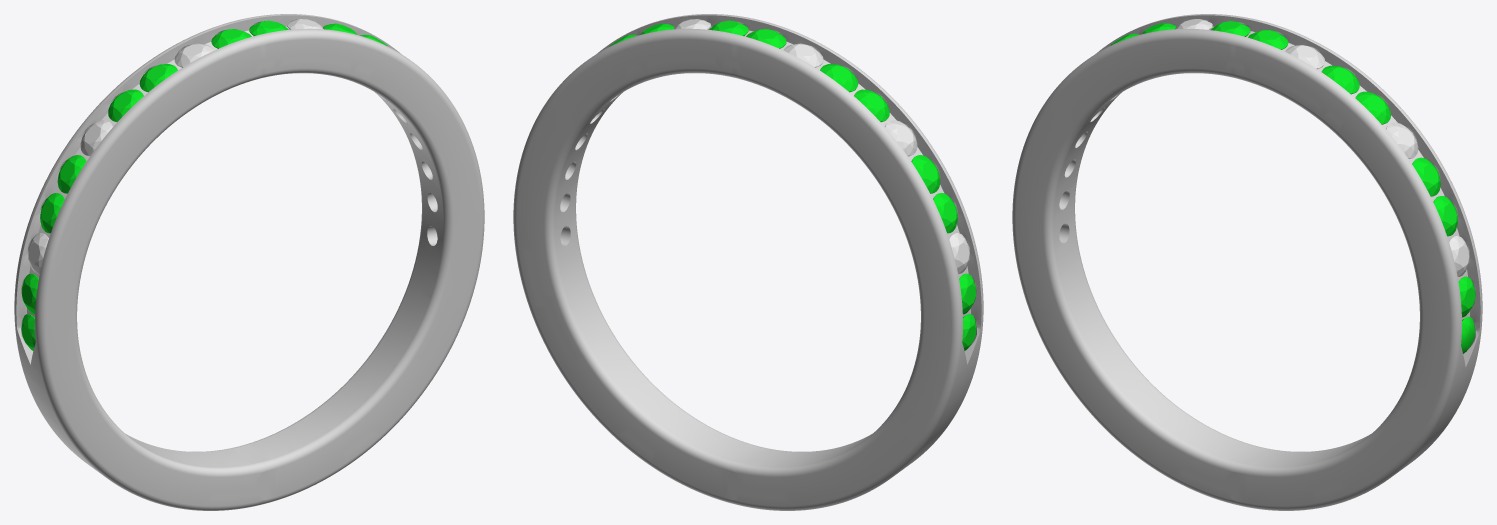
The model's file is Daniel Costa Emerald and Diamond.glb.
3 renders of one model, left to right at view 1: azimuth 30°, elevation 25°; view 2: azimuth 150°, elevation 25°; view 3: azimuth 330°, elevation 25°, orthographic.
Visible parts, largest first — view 1: v2 PT for 3d model, v2 dia for 3d model.004, v2 emerald for 3d model.010, v2 emerald for 3d model.009, v2 emerald for 3d model.011, v2 emerald for 3d model.008, v2 dia for 3d model.005, v2 dia for 3d model.003; view 2: v2 PT for 3d model, v2 dia for 3d model.004, v2 emerald for 3d model.010, v2 emerald for 3d model.009, v2 emerald for 3d model.011, v2 emerald for 3d model.008, v2 dia for 3d model.005, v2 dia for 3d model.003; view 3: v2 PT for 3d model, v2 dia for 3d model.001, v2 emerald for 3d model.003, v2 emerald for 3d model.004, v2 emerald for 3d model.002, v2 emerald for 3d model.005, v2 dia for 3d model, v2 dia for 3d model.002.
Part boxes in pixels (box(x1,y1,x2,y2)): v2 PT for 3d model: box(14, 14, 484, 510); v2 dia for 3d model.004: box(80, 120, 112, 156); v2 emerald for 3d model.010: box(57, 155, 86, 193); v2 emerald for 3d model.009: box(108, 89, 143, 121); v2 emerald for 3d model.011: box(40, 193, 64, 233); v2 emerald for 3d model.008: box(139, 64, 177, 92); v2 dia for 3d model.005: box(28, 233, 48, 273); v2 dia for 3d model.003: box(174, 43, 214, 67); v2 PT for 3d model: box(513, 14, 983, 510); v2 dia for 3d model.004: box(885, 120, 917, 156); v2 emerald for 3d model.010: box(911, 155, 940, 193); v2 emerald for 3d model.009: box(854, 89, 889, 121); v2 emerald for 3d model.011: box(933, 193, 957, 233); v2 emerald for 3d model.008: box(820, 64, 858, 92); v2 dia for 3d model.005: box(949, 233, 969, 273); v2 dia for 3d model.003: box(783, 43, 823, 67); v2 PT for 3d model: box(1012, 14, 1482, 510); v2 dia for 3d model.001: box(1386, 122, 1418, 158); v2 emerald for 3d model.003: box(1412, 157, 1440, 196); v2 emerald for 3d model.004: box(1355, 91, 1390, 124); v2 emerald for 3d model.002: box(1433, 196, 1457, 236); v2 emerald for 3d model.005: box(1321, 65, 1359, 94); v2 dia for 3d model: box(1449, 236, 1469, 276); v2 dia for 3d model.002: box(1285, 45, 1324, 69).
Bounding box in the file's own units: 20.11 × 20.11 × 2.2.
